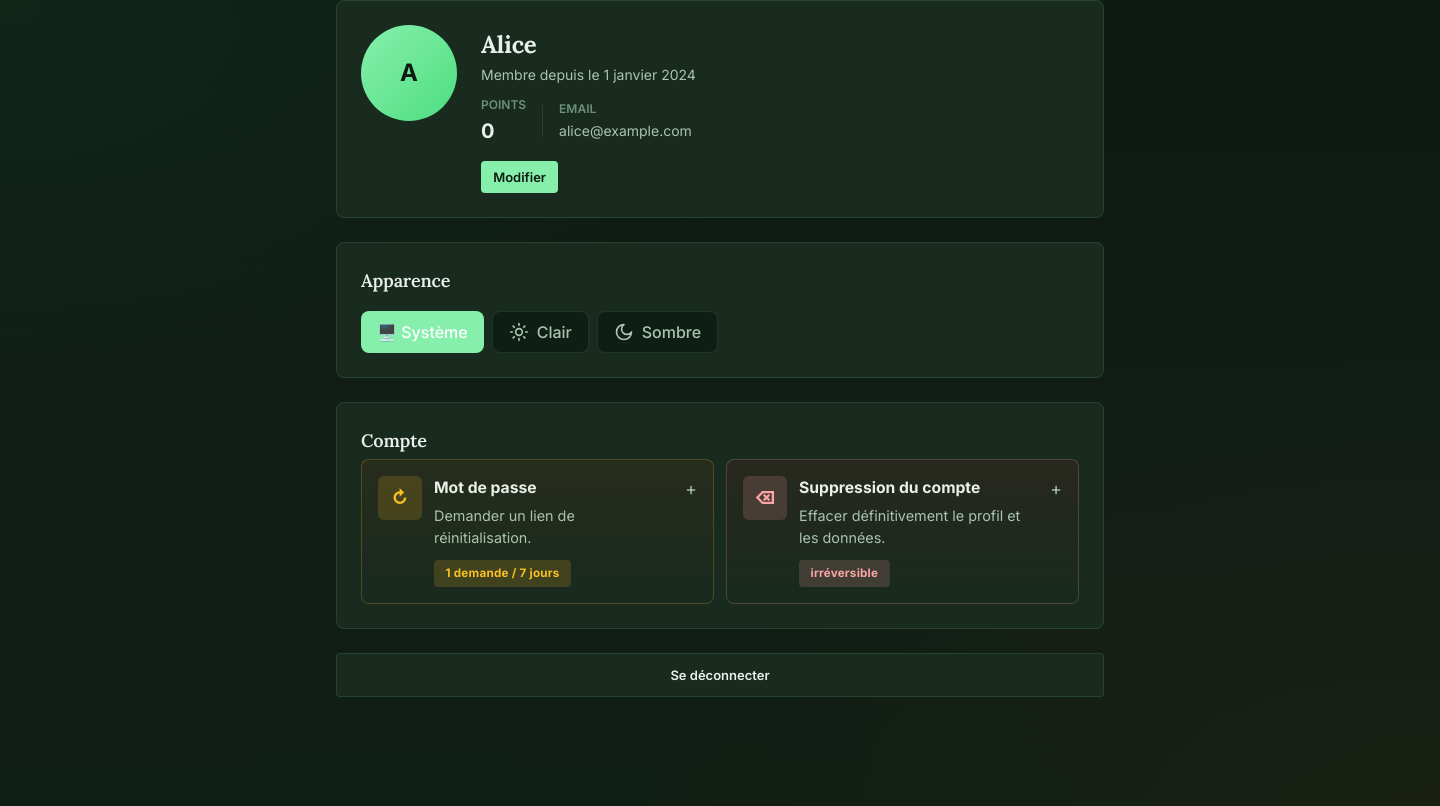
Test: ProfilePage — authenticated › toggles delete account confirmation panel
Expected: the heading "Alice" is shown, 481,29 -> 536,60
Click the button "Suppression du compte" at (765, 498), box 743,476 -> 1062,587
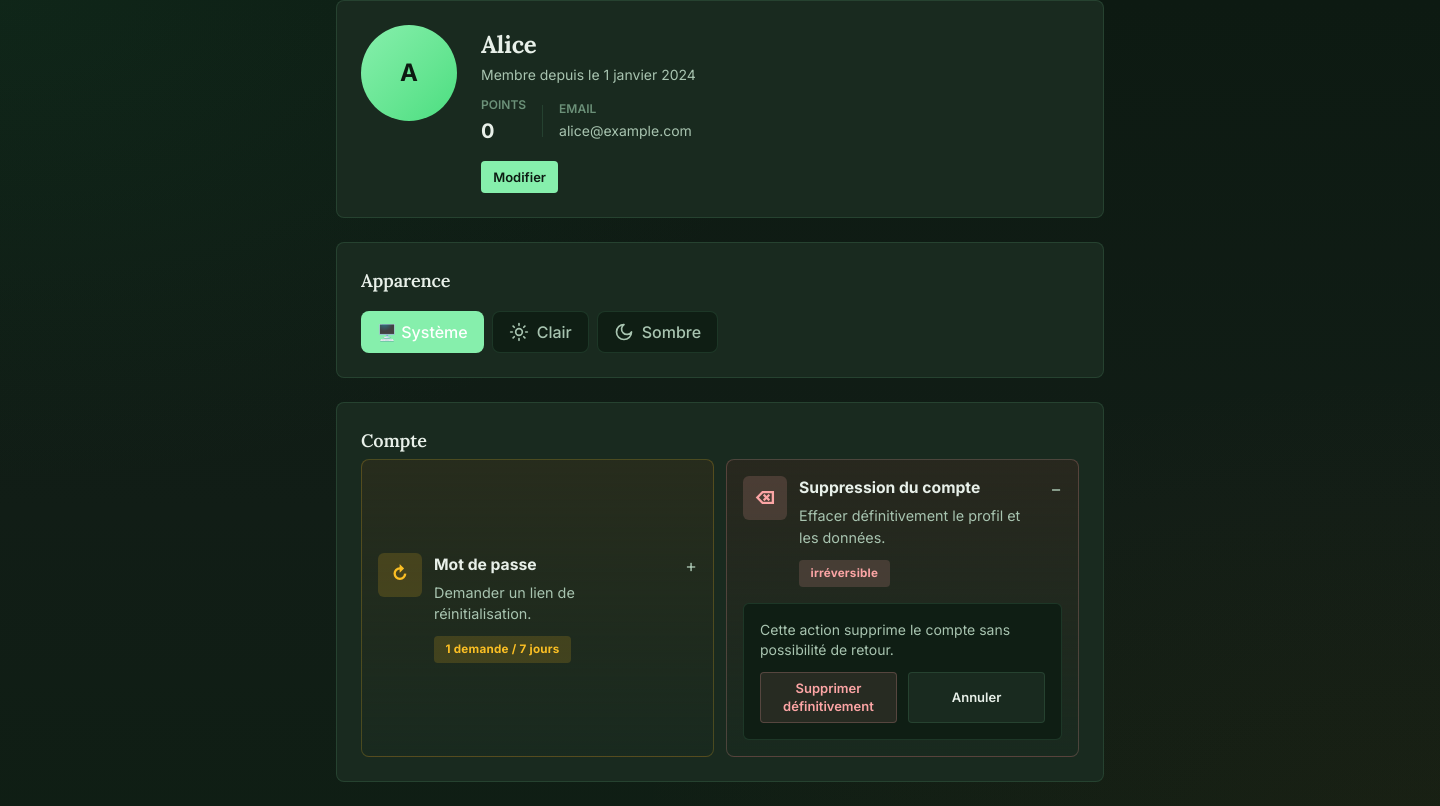
Expected: the button "Supprimer définitivement" is shown, 760,672 -> 897,722
